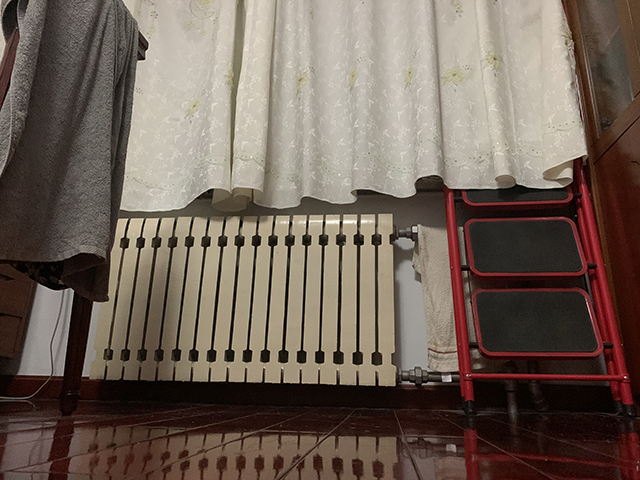curtain: (121, 1, 587, 213)
wire: (1, 288, 66, 402)
